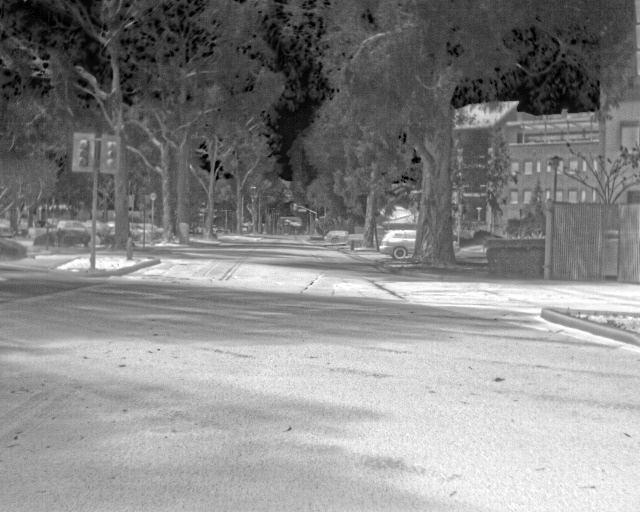vehicle: (379, 229, 418, 256)
